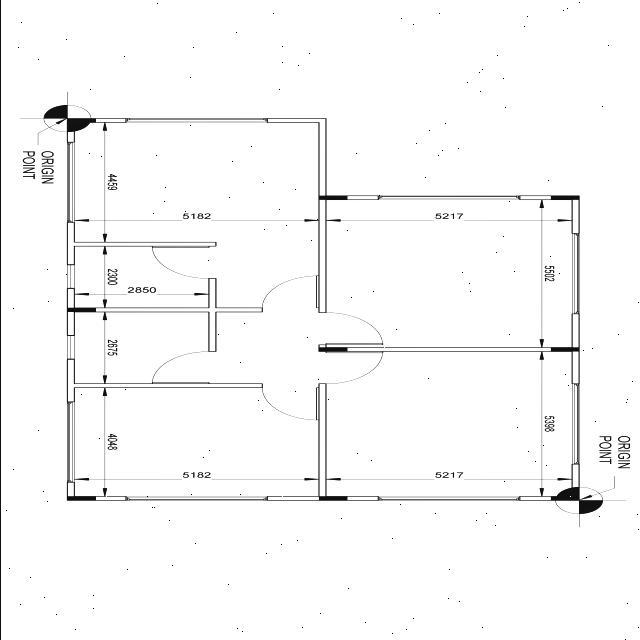Column: (317, 347, 347, 352), (66, 496, 95, 501), (550, 496, 578, 501), (318, 496, 346, 501), (66, 308, 95, 312), (318, 196, 347, 200), (550, 196, 578, 200), (550, 348, 578, 352), (66, 119, 95, 122)
Door: (151, 352, 216, 384), (261, 384, 318, 420), (318, 313, 382, 345), (318, 352, 382, 384), (152, 246, 216, 278), (262, 276, 318, 312)
Window: (377, 496, 519, 501), (125, 496, 267, 501), (570, 234, 578, 314), (570, 384, 578, 464), (66, 402, 74, 482), (66, 142, 74, 222), (377, 196, 519, 200), (125, 119, 266, 122), (66, 336, 74, 360), (66, 264, 74, 288)
